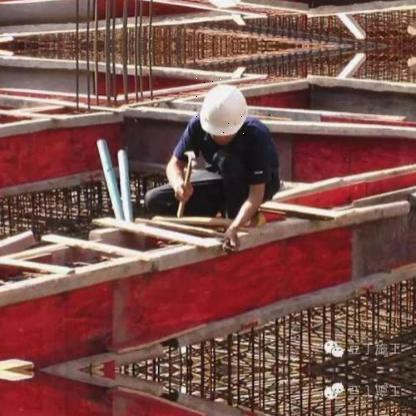safetyhelmet: (196, 79, 247, 138)
